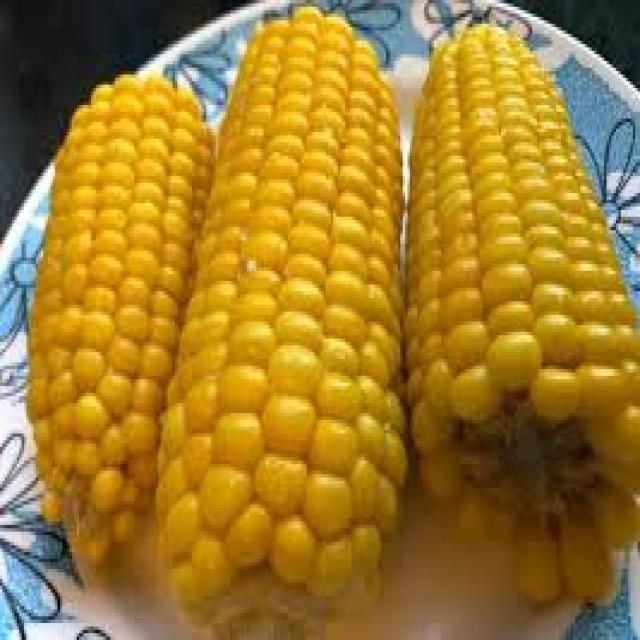corn: (156, 0, 407, 623), (404, 5, 640, 613), (21, 54, 223, 578)
